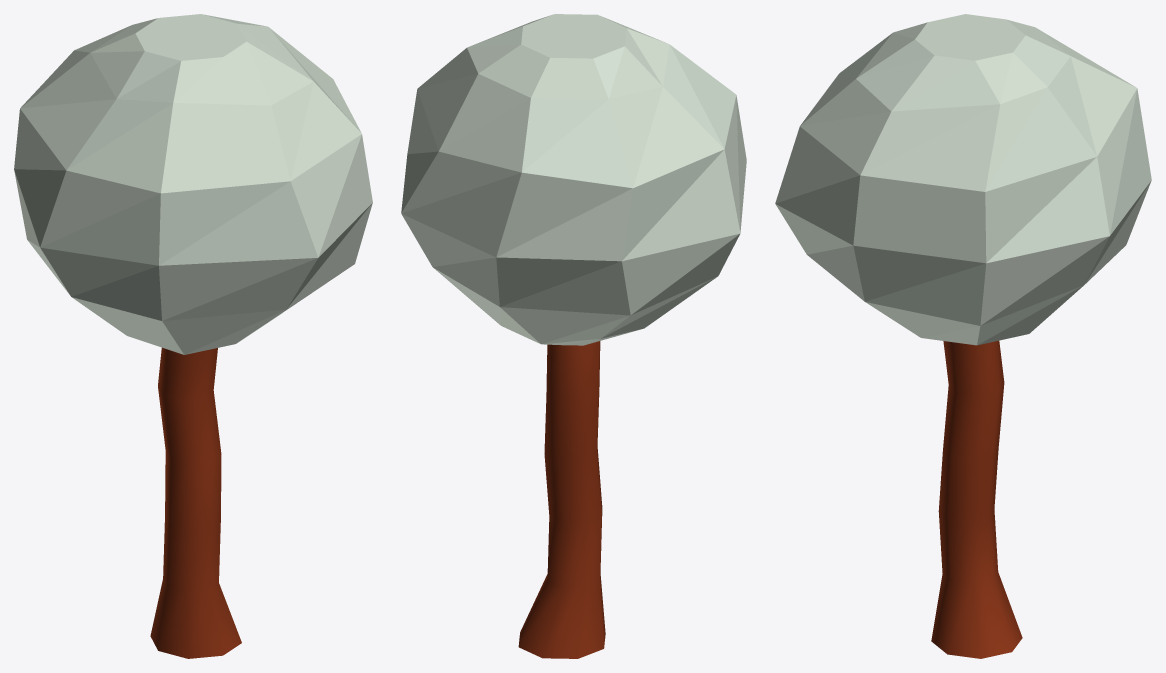
The model's file is Neige_Arbre_v1_001.FBX.
The picture shows the model from 3 angles, left to right: view 1: azimuth 30°, elevation 25°; view 2: azimuth 150°, elevation 25°; view 3: azimuth 270°, elevation 25°; orthographic projection.
Parts seen in each view (by area): view 1: Arbre061; view 2: Arbre061; view 3: Arbre061.
Boxes of the visible parts, x1=… form: Arbre061: x1=14, y1=14, x2=372, y2=658; Arbre061: x1=401, y1=14, x2=746, y2=658; Arbre061: x1=775, y1=14, x2=1151, y2=658.
Size of the model in its own units: 95.47 by 174 by 99.19.
